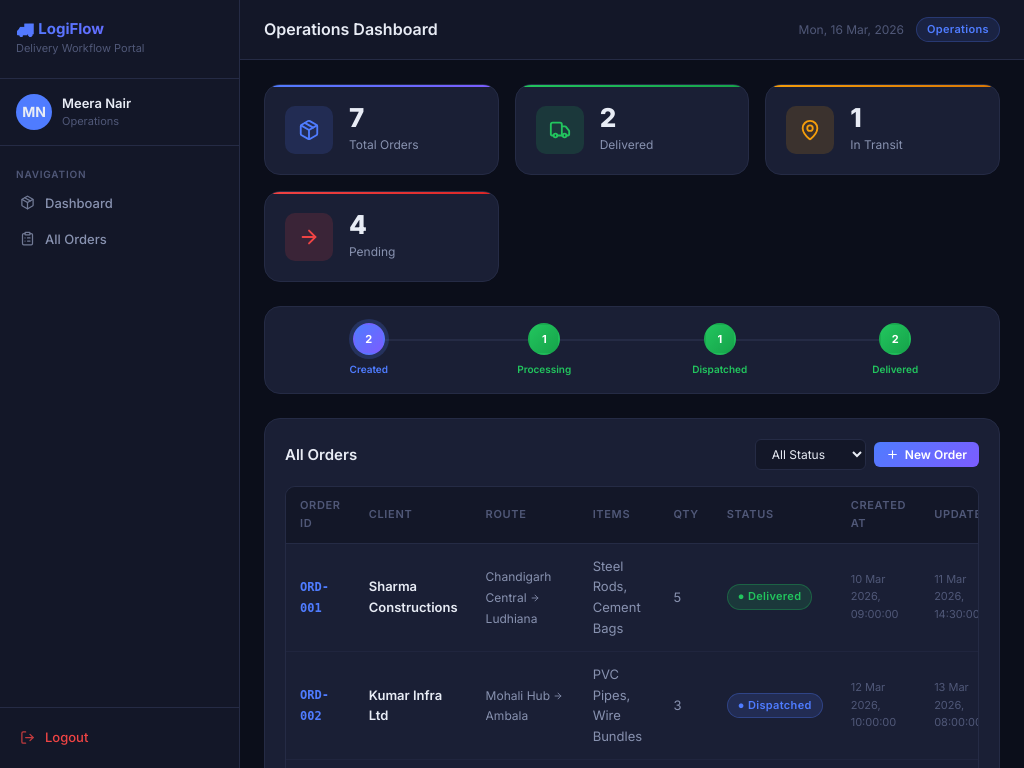
it: Operations Dashboard › opens Create Order modal on button click
Click the button "New Order" at (926, 455), box 874,442 -> 979,467
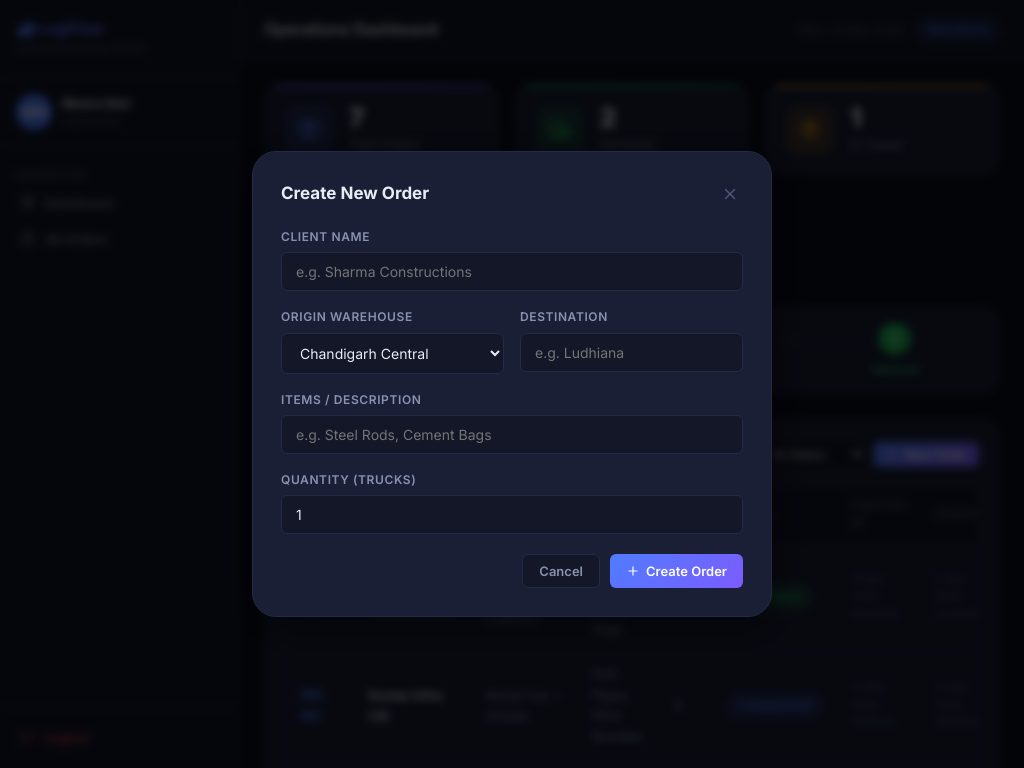
expect the heading "Create New Order" is shown: met, box 281,180 -> 429,207
